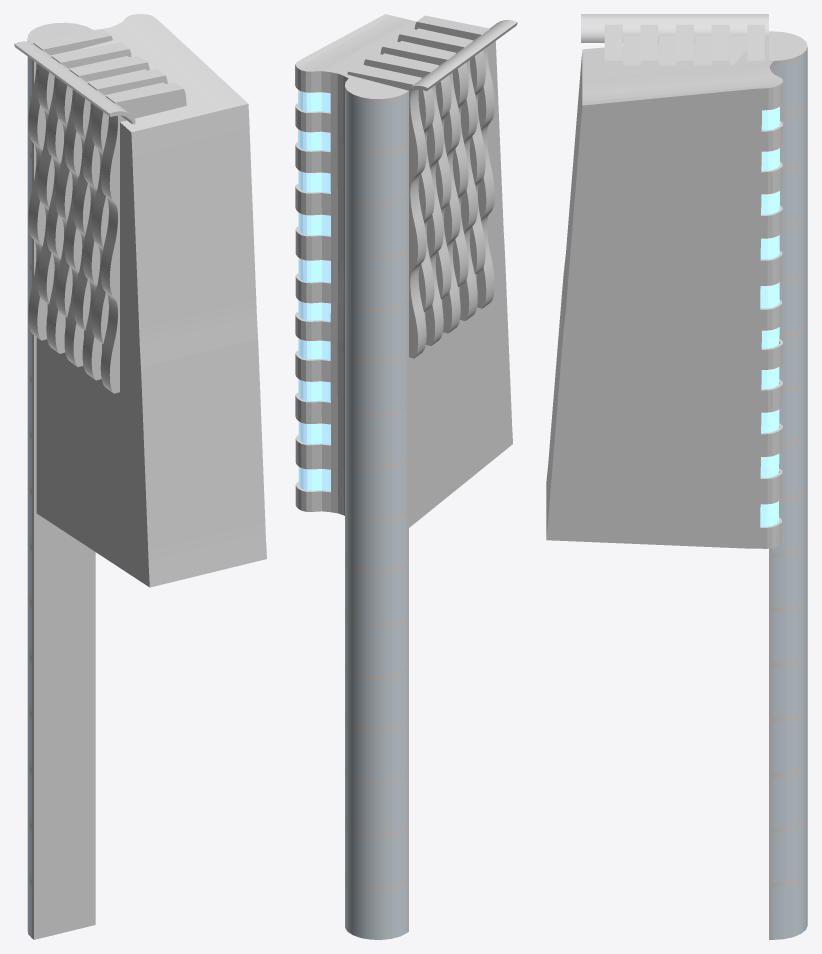
File: WaveNew.fbx
3 renders of one model, left to right at view 1: azimuth 30°, elevation 25°; view 2: azimuth 150°, elevation 25°; view 3: azimuth 270°, elevation 25°, orthographic. The views are drawn at different scales.
Visible parts, largest first — view 1: BaseWaveBuilding1_group1, group1_WaveBuilding1arches, group1_WaveBuilding1elevator_base, group1_WaveBuilding1elevator_glass, group1_WaveBuilding1Arch; view 2: group1_WaveBuilding1elevator_glass, BaseWaveBuilding1_group1, group1_WaveBuilding1arches, group1_WaveBuilding1elevator_base, group1_WaveBuilding1glass, group1_WaveBuilding1Arch; view 3: BaseWaveBuilding1_group1, group1_WaveBuilding1elevator_glass, group1_WaveBuilding1elevator_base, group1_WaveBuilding1arches, group1_WaveBuilding1glass, group1_WaveBuilding1Arch.
Boxes of the visible parts, x1,y1,x2,y2 form: BaseWaveBuilding1_group1: (36,14,266,587); group1_WaveBuilding1arches: (28,29,186,393); group1_WaveBuilding1elevator_base: (27,22,95,939); group1_WaveBuilding1elevator_glass: (27,57,31,937); group1_WaveBuilding1Arch: (14,41,135,124); group1_WaveBuilding1elevator_glass: (345,91,406,939); BaseWaveBuilding1_group1: (295,14,512,527); group1_WaveBuilding1arches: (347,15,494,358); group1_WaveBuilding1elevator_base: (345,76,408,932); group1_WaveBuilding1glass: (298,89,330,490); group1_WaveBuilding1Arch: (406,20,517,92); BaseWaveBuilding1_group1: (546,34,782,548); group1_WaveBuilding1elevator_glass: (772,51,807,939); group1_WaveBuilding1elevator_base: (769,31,807,939); group1_WaveBuilding1arches: (604,24,764,65); group1_WaveBuilding1glass: (760,107,779,526); group1_WaveBuilding1Arch: (581,14,768,42).
Size of the model in its own units: 5219 by 32156 by 8594.
